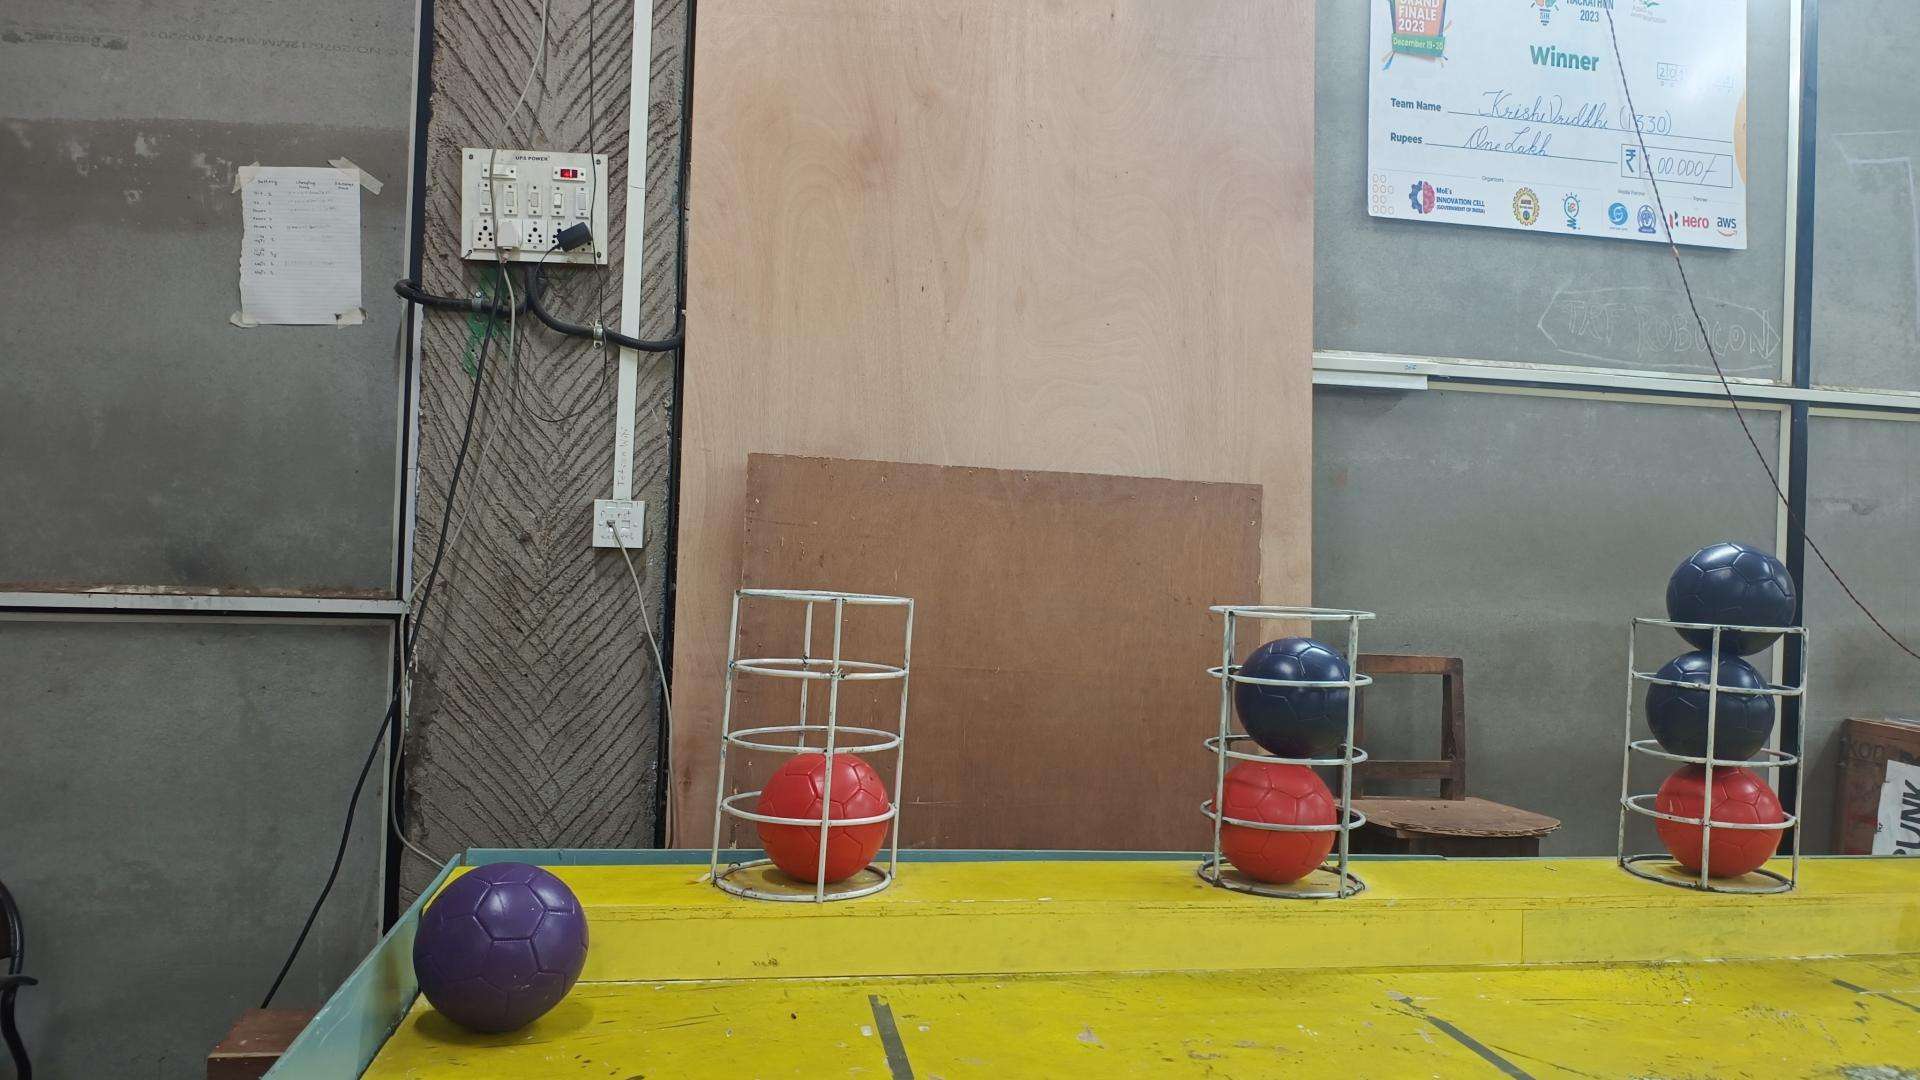dhoka: (1665, 541, 1796, 657), (1234, 637, 1354, 757), (1646, 649, 1774, 761)
laale: (757, 750, 893, 885), (1208, 761, 1338, 885), (1654, 765, 1788, 877)
